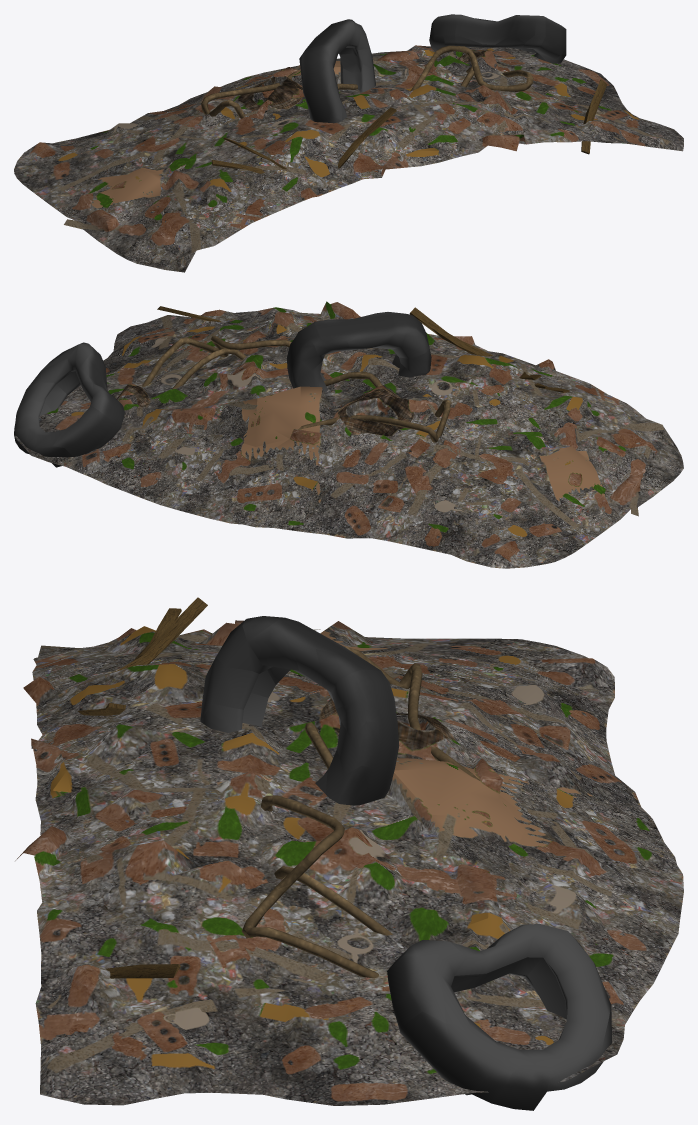
File: Dump3.fbx
3 views of the same model, one above another, from view 1: azimuth 30°, elevation 25°; view 2: azimuth 150°, elevation 25°; view 3: azimuth 270°, elevation 25° (orthographic). The views are drawn at different scales.
Visible parts, largest first — view 1: polySurface1; view 2: polySurface1; view 3: polySurface1.
Boxes of the visible parts, x1,y1,x2,y2 form: polySurface1: (14,14,683,272); polySurface1: (14,301,683,568); polySurface1: (15,597,683,1110).
Bounding box in the file's own units: 73.61 × 18.09 × 43.77.
